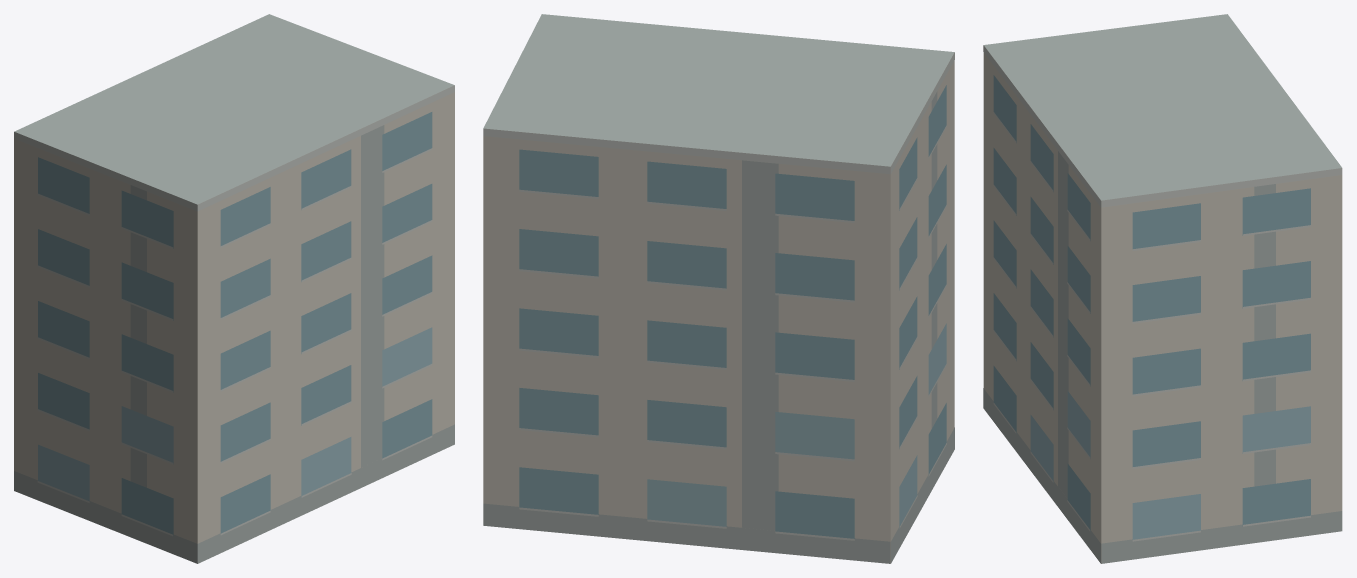
Rendered from survey-upis-32990080.glb.
3 renders of one model, left to right at view 1: azimuth 30°, elevation 25°; view 2: azimuth 150°, elevation 25°; view 3: azimuth 270°, elevation 25°, orthographic. The views are drawn at different scales.
Visible parts, largest first — view 1: survey-upis-32990080.tmp; view 2: survey-upis-32990080.tmp; view 3: survey-upis-32990080.tmp.
Part boxes in pixels (x1,y1,x2,y2): survey-upis-32990080.tmp: [14, 14, 454, 563]; survey-upis-32990080.tmp: [483, 14, 954, 563]; survey-upis-32990080.tmp: [983, 14, 1342, 563].
Size of the model in its own units: 14 by 12.7 by 11.38.
